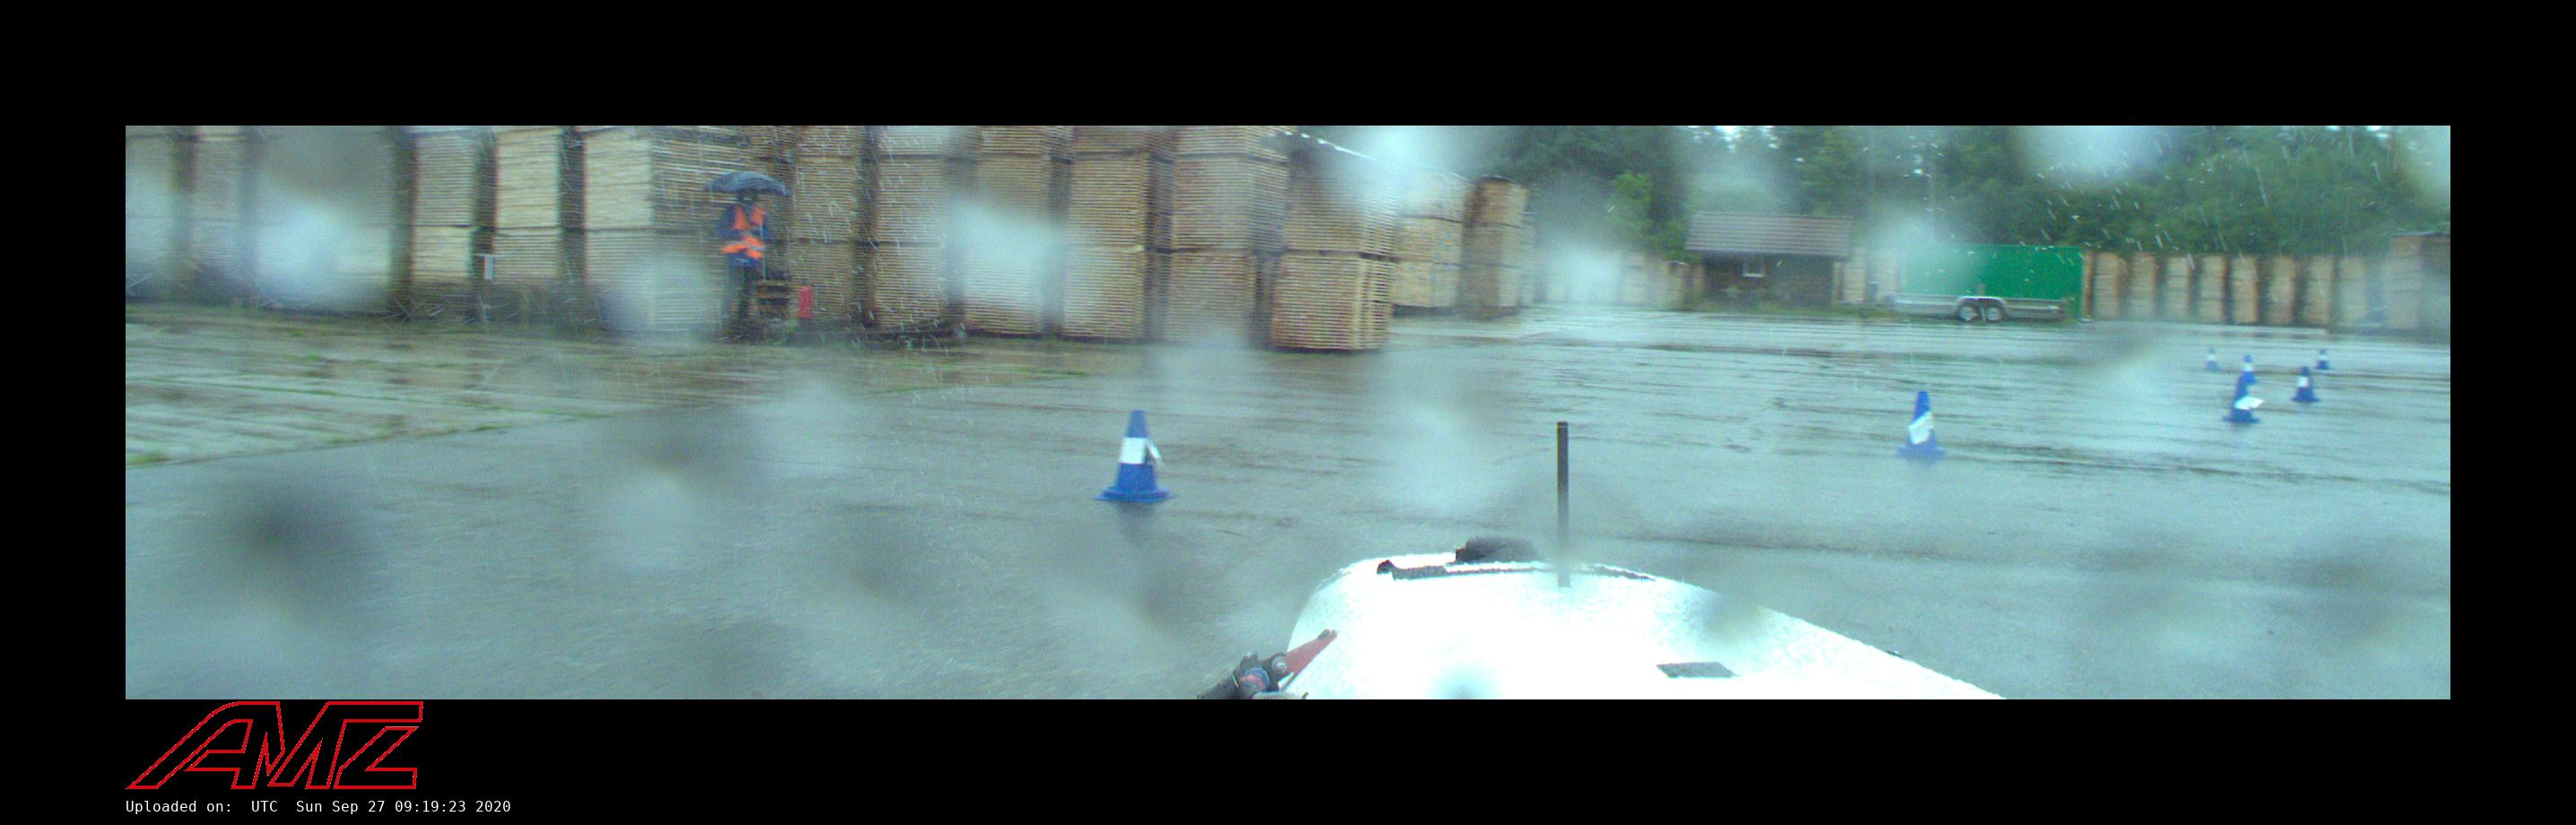blue_cone: (1094, 411, 1176, 505), (1896, 391, 1950, 457), (2223, 385, 2259, 422), (2290, 368, 2321, 401), (2236, 355, 2257, 383), (2201, 347, 2221, 370), (2316, 348, 2330, 368)
